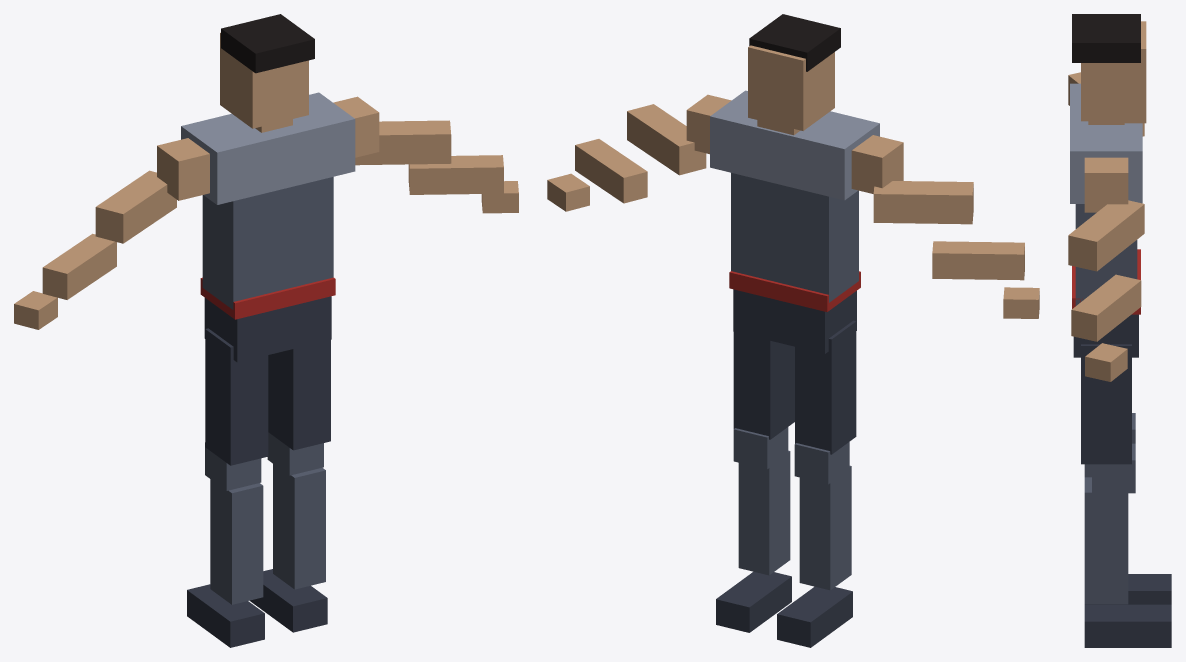
Rendered from base_fighter_blender.obj.
The picture shows the model from 3 angles, left to right: view 1: azimuth 30°, elevation 25°; view 2: azimuth 150°, elevation 25°; view 3: azimuth 270°, elevation 25°; orthographic projection. The views are drawn at different scales.
Visible parts, largest first — view 1: BaseFighter; view 2: BaseFighter; view 3: BaseFighter.
Boxes of the visible parts, x1,y1,x2,y2 form: BaseFighter: [14, 14, 518, 647]; BaseFighter: [547, 14, 1039, 647]; BaseFighter: [1068, 14, 1171, 647].
Size of the model in its own units: 1.61 by 1.81 by 0.2855.
